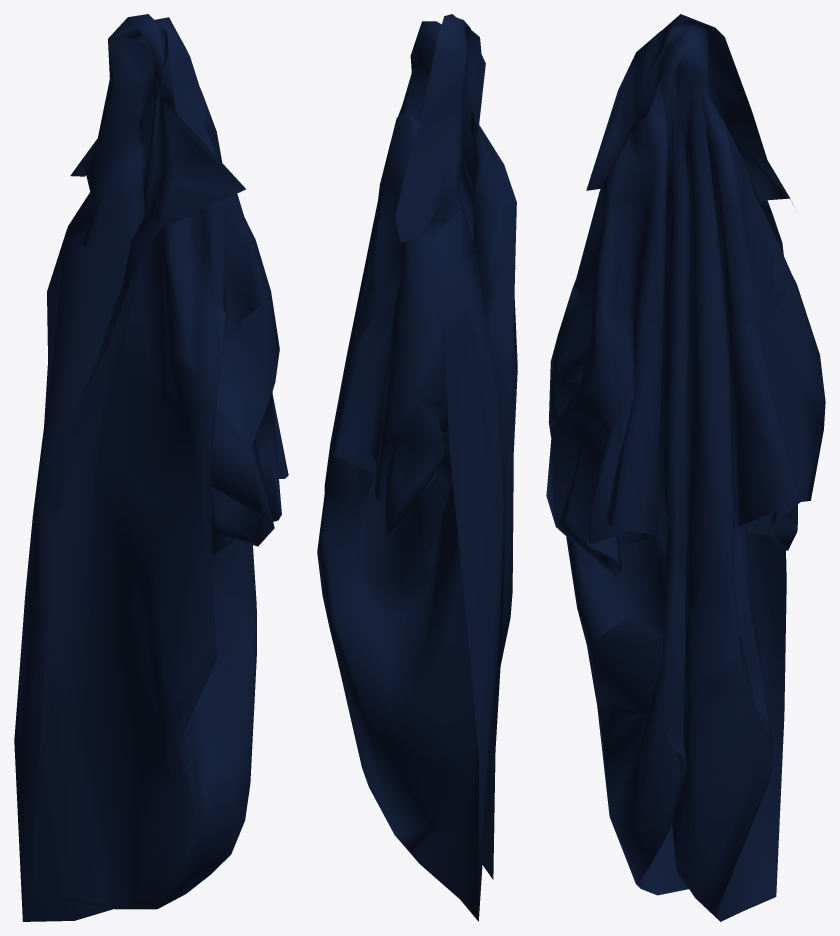
Rendered from Cloth_11.FBX.
3 renders of one model, left to right at view 1: azimuth 30°, elevation 25°; view 2: azimuth 150°, elevation 25°; view 3: azimuth 270°, elevation 25°, orthographic. The views are drawn at different scales.
Visible parts, largest first — view 1: Shirt_2_004; view 2: Shirt_2_004; view 3: Shirt_2_004.
Boxes of the visible parts, x1=… form: Shirt_2_004: x1=14, y1=14, x2=288, y2=921; Shirt_2_004: x1=317, y1=14, x2=517, y2=921; Shirt_2_004: x1=546, y1=14, x2=825, y2=921.
Bounding box in the file's own units: 185 × 814 × 225.
